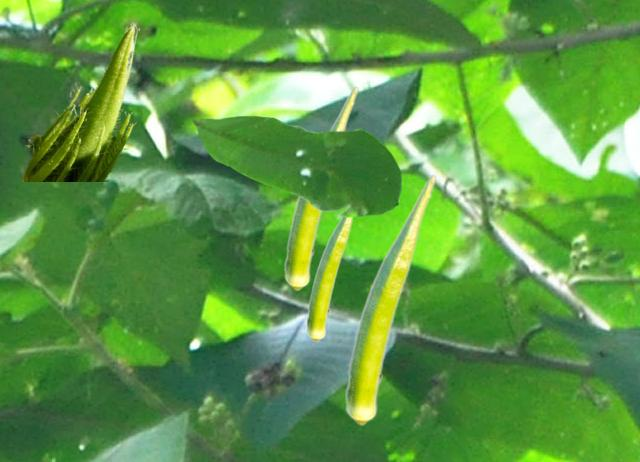okra: (345, 173, 436, 425), (20, 21, 139, 180), (284, 85, 358, 290), (306, 207, 354, 341)
